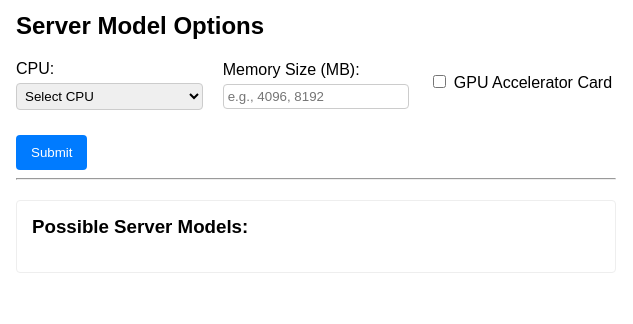
App Component › displays "High Density Server" (Example 4)
The width and height of the screenshot is (633, 324).
Select "ARM" in the dropdown labelled "CPU:" at coordinates (109, 96), box [16,83,203,110]
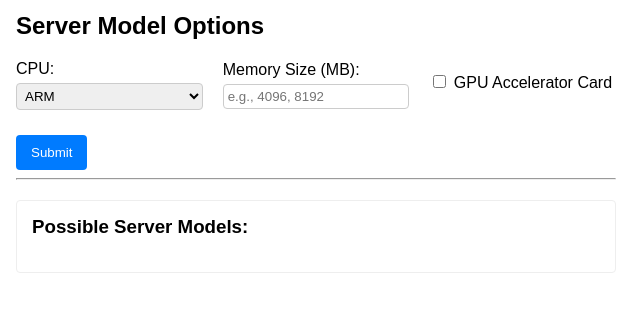
Type "524288" into the field labelled "Memory Size (MB):" at coordinates (316, 96), box [223,84,409,109]
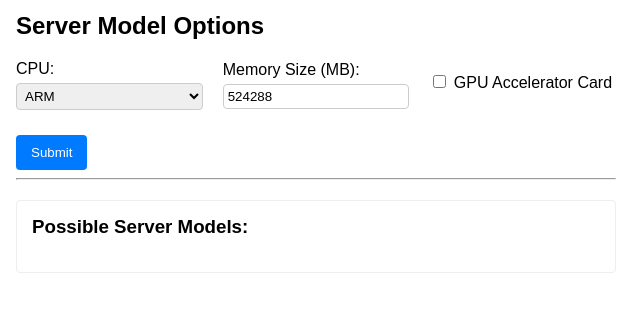
Click the checkbox labelled "GPU Accelerator Card" at coordinates (440, 82), box [433,75,446,88]
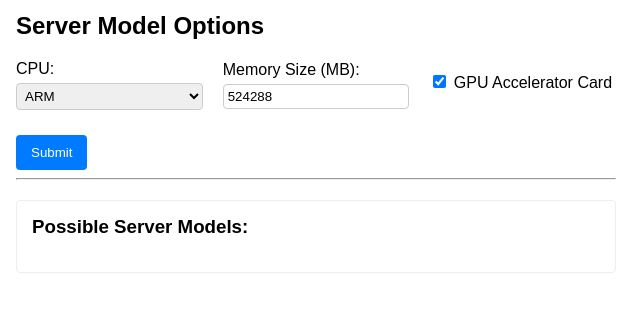
Click the button "Submit" at coordinates (52, 152), box [16,135,88,170]
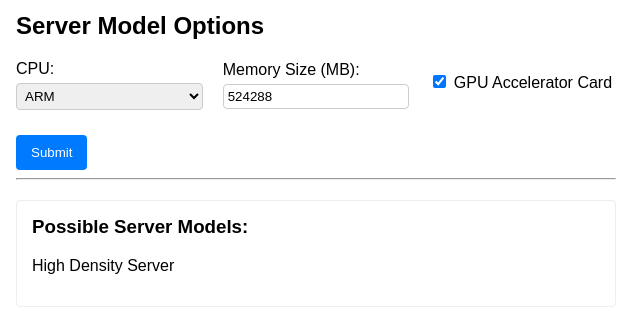
Expected: the list item "High Density Server" is shown, [32,256,174,274]
